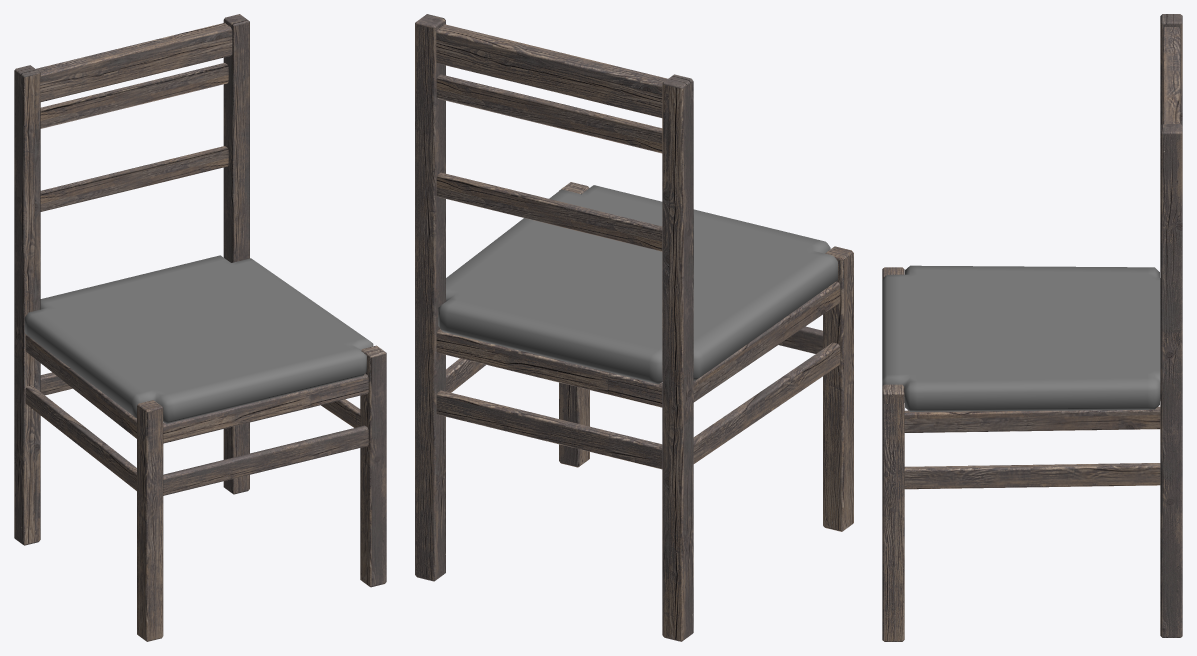
The model's file is Chair02.FBX.
The picture shows the model from 3 angles, left to right: view 1: azimuth 30°, elevation 25°; view 2: azimuth 150°, elevation 25°; view 3: azimuth 270°, elevation 25°; orthographic projection. The views are drawn at different scales.
Visible parts, largest first — view 1: Object027; view 2: Object027; view 3: Object027.
Part boxes in pixels (left/top/right/bottom): Object027: left=14, top=14, right=386, bottom=641; Object027: left=415, top=14, right=853, bottom=641; Object027: left=882, top=14, right=1182, bottom=641.
Bounding box in the file's own units: 17.69 × 17.74 × 32.99.
